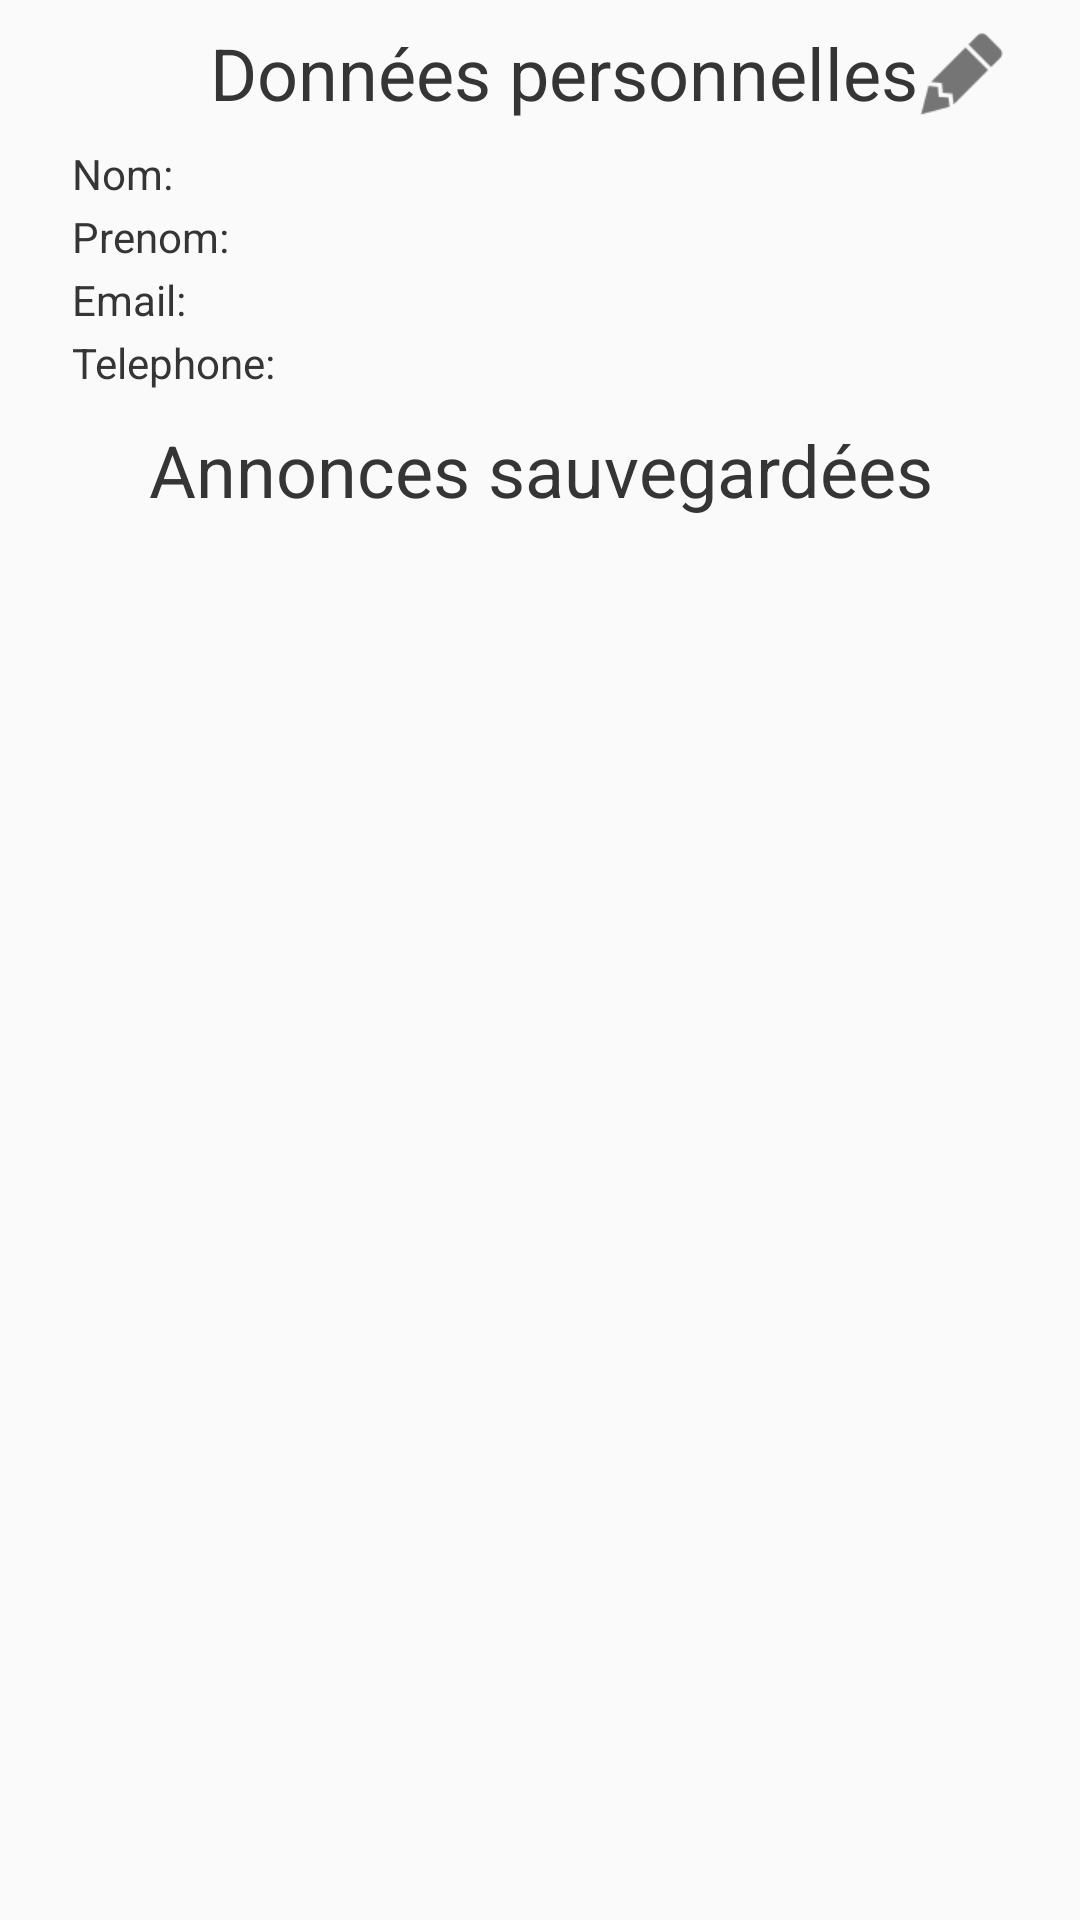

Point at icon controls on the screen. Image size 1080 x 1920, points as (x=x, y=y).
pencil: (x=962, y=74)
